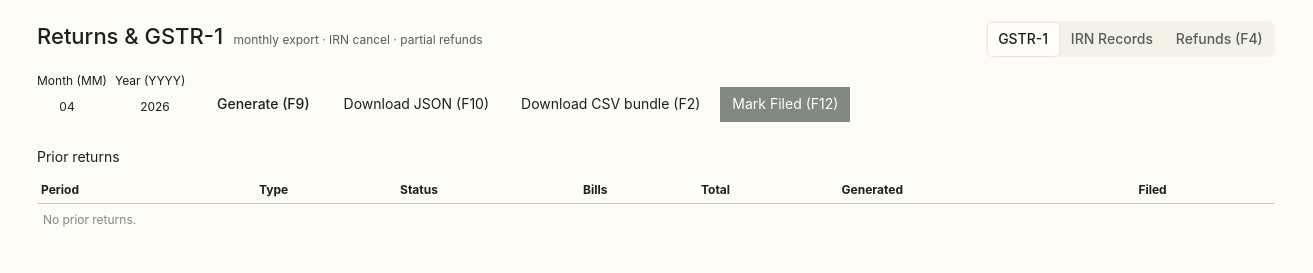
Test case: ReturnsScreen · A10 › A12 · switching to IRN mode loads records via list_irn_records
This screenshot has width=1313, height=273.
Click the tab with test id "ret-mode-irn" at (1112, 39), box x1=1060 y1=23 x2=1164 y2=56
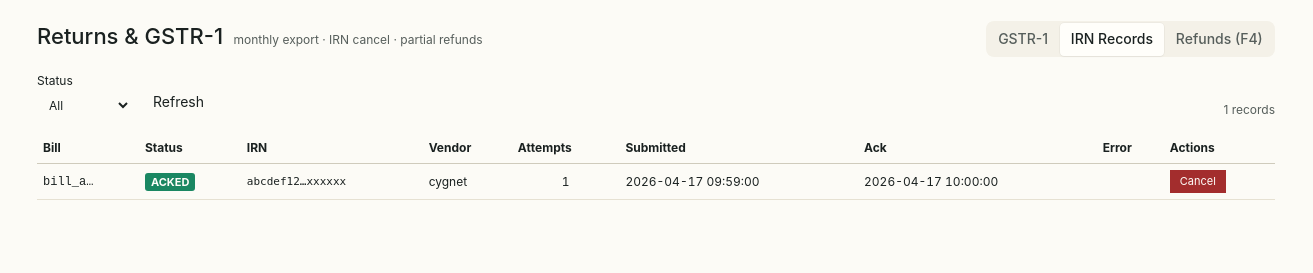
Now the element with test id "irn-panel" is shown, box x1=37 y1=71 x2=1275 y2=200
